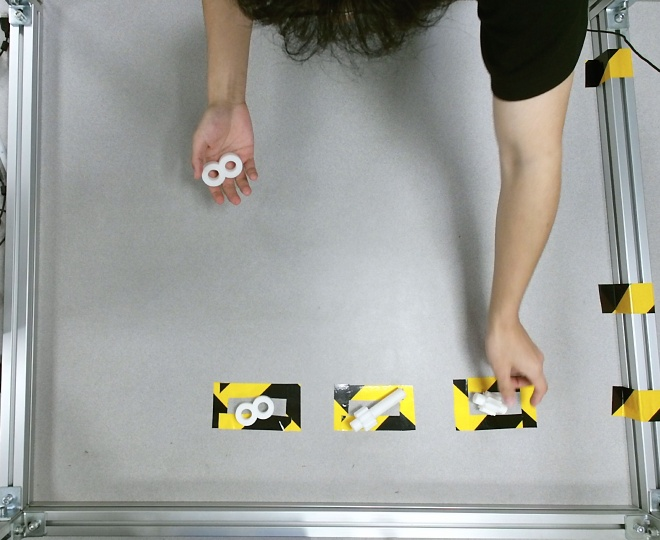stage_1: (201, 152, 244, 188)
